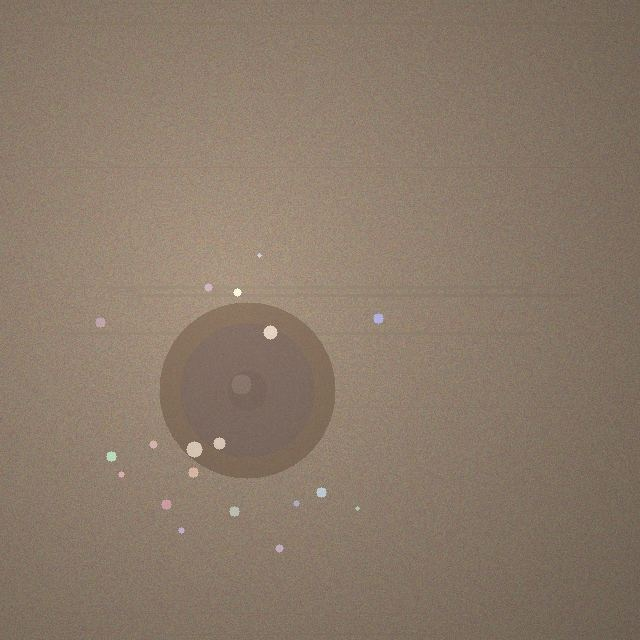overburn: (159, 302, 335, 478)
